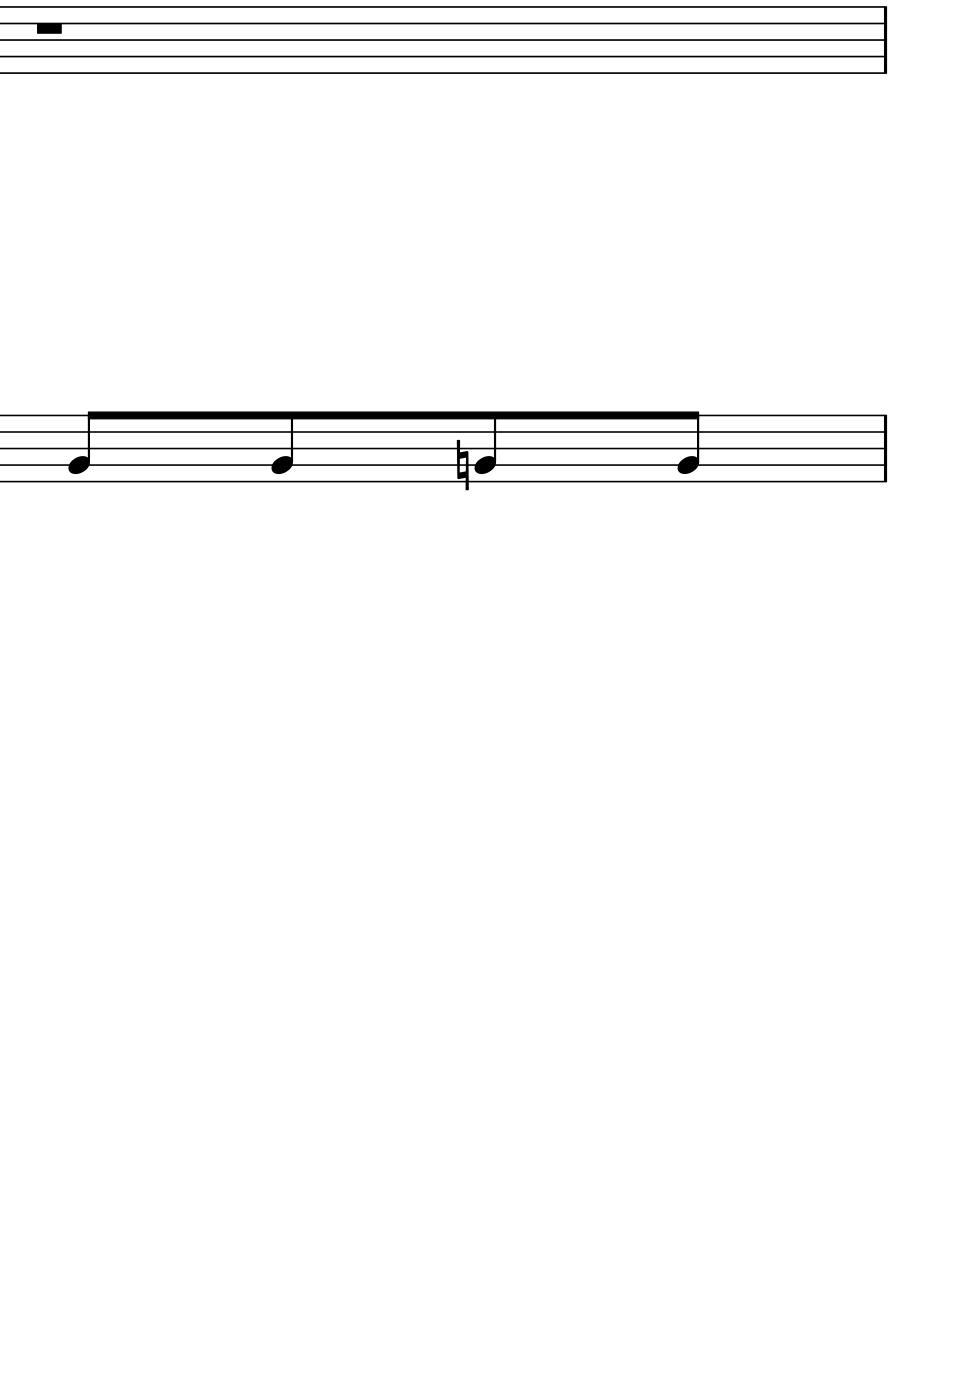8_2: (66, 409, 100, 484), (677, 409, 701, 485), (474, 409, 497, 485), (270, 410, 294, 485)
Natural: (453, 438, 471, 493)
Rests1: (31, 18, 67, 38)
Single_barline: (876, 414, 893, 483), (876, 7, 893, 74)
